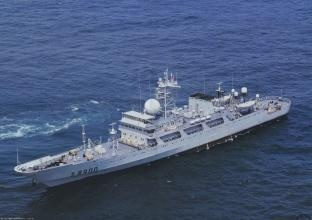warship: (19, 61, 296, 183)
